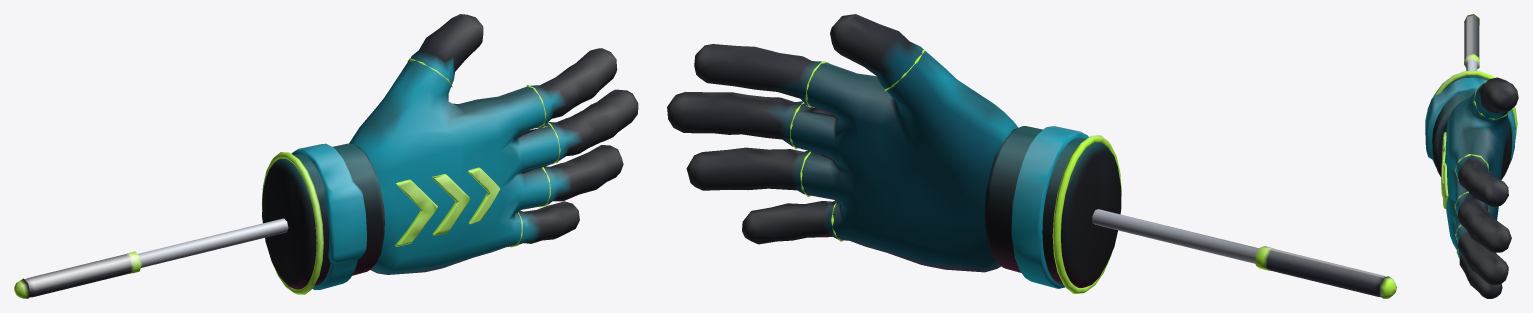
The model's file is glove_speed.glb.
3 views of the same model, side by side, from view 1: azimuth 30°, elevation 25°; view 2: azimuth 150°, elevation 25°; view 3: azimuth 270°, elevation 25° (orthographic). The views are drawn at different scales.
Visible parts, largest first — view 1: Glove, Stick, Glow; view 2: Glove, Stick, Glow; view 3: Glove, Glow, Stick.
Boxes of the visible parts, left/top/right/bottom form: Glove: left=262, top=14, right=638, bottom=290; Stick: left=14, top=218, right=288, bottom=298; Glow: left=262, top=58, right=560, bottom=294; Glove: left=667, top=14, right=1121, bottom=288; Stick: left=1092, top=209, right=1396, bottom=298; Glow: left=790, top=49, right=1121, bottom=293; Glove: left=1425, top=75, right=1518, bottom=298; Glow: left=1433, top=71, right=1517, bottom=255; Stick: left=1464, top=14, right=1479, bottom=70.
Bounding box in the file's own units: 1.17 × 0.4067 × 0.1909.
